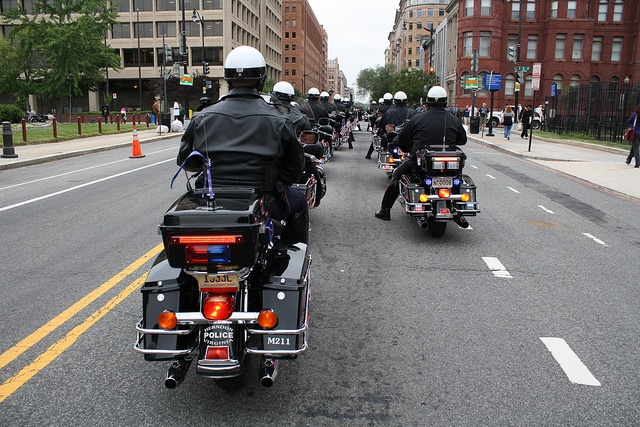non-vehicle: (140, 185, 314, 384), (396, 141, 477, 239), (303, 143, 327, 212), (377, 133, 403, 168), (319, 124, 332, 162), (371, 117, 385, 152), (338, 111, 350, 144), (331, 121, 342, 149), (373, 112, 382, 134), (364, 111, 372, 131), (368, 105, 380, 113), (328, 110, 338, 119)
